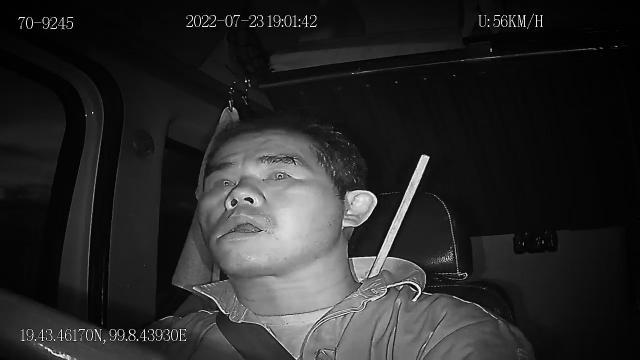SafeDriving: (258, 160, 300, 187), (204, 168, 240, 196)
Seatbelt: (215, 310, 298, 360)
